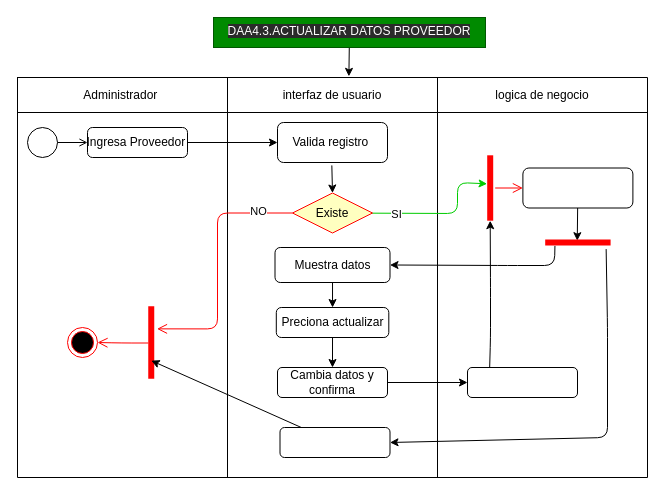
This 665x495 diagram has some shape labels left out. Each missing label, with the box of its shape:
Almacena Cambio de datos: (466, 366, 578, 398)
Consulta datos: (522, 167, 633, 208)
Muestra nuevos datos: (279, 426, 390, 458)
